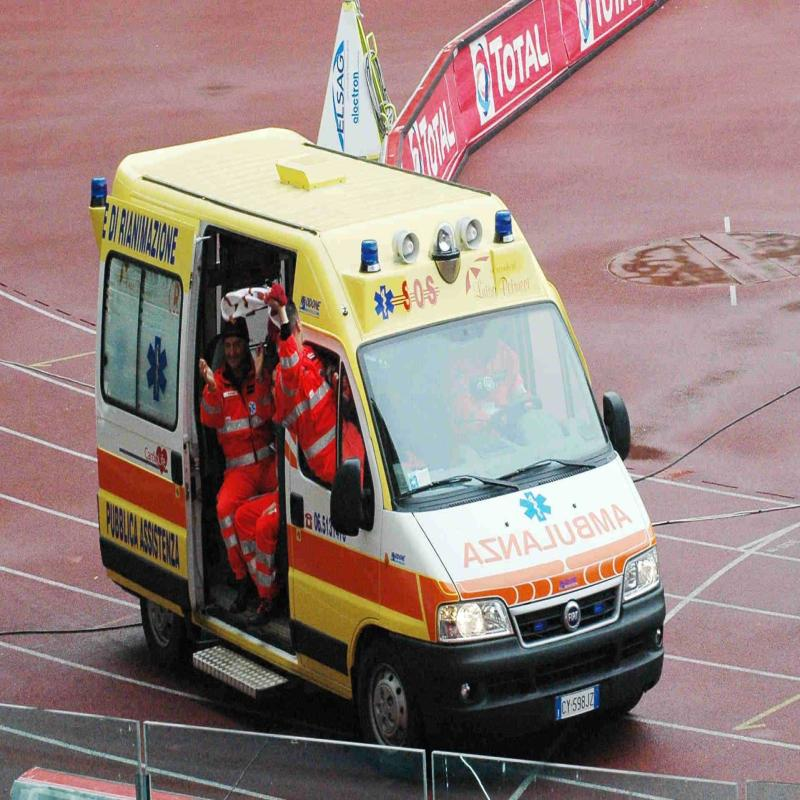AmbulanceSiren: (353, 229, 386, 288), (492, 210, 526, 252)
